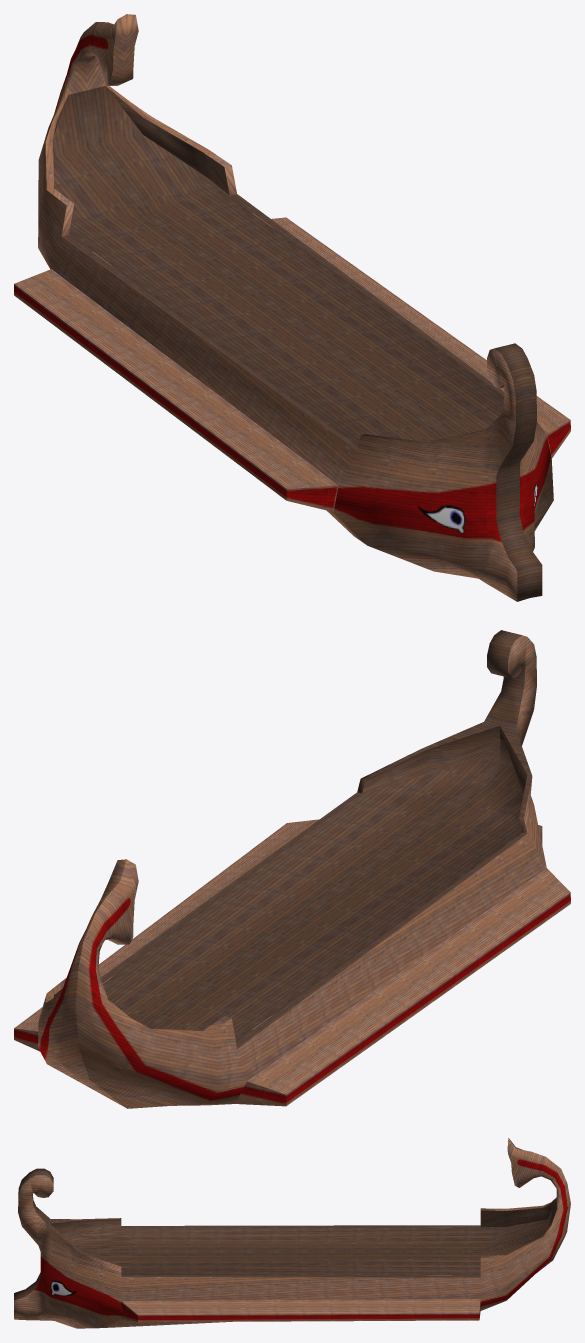
The model's file is HQBireme.fbx.
The picture shows the model from 3 angles, top to bottom: view 1: azimuth 30°, elevation 25°; view 2: azimuth 150°, elevation 25°; view 3: azimuth 270°, elevation 25°; orthographic projection. The views are drawn at different scales.
Visible parts, largest first — view 1: HullModel; view 2: HullModel; view 3: HullModel.
Part boxes in pixels (x1=…): HullModel: x1=14, y1=14, x2=570, y2=601; HullModel: x1=14, y1=630, x2=570, y2=1108; HullModel: x1=14, y1=1138, x2=570, y2=1328.
Bounding box in the file's own units: 5.38 × 14.88 × 5.25.
Materials: 1 (1 with a texture image).
